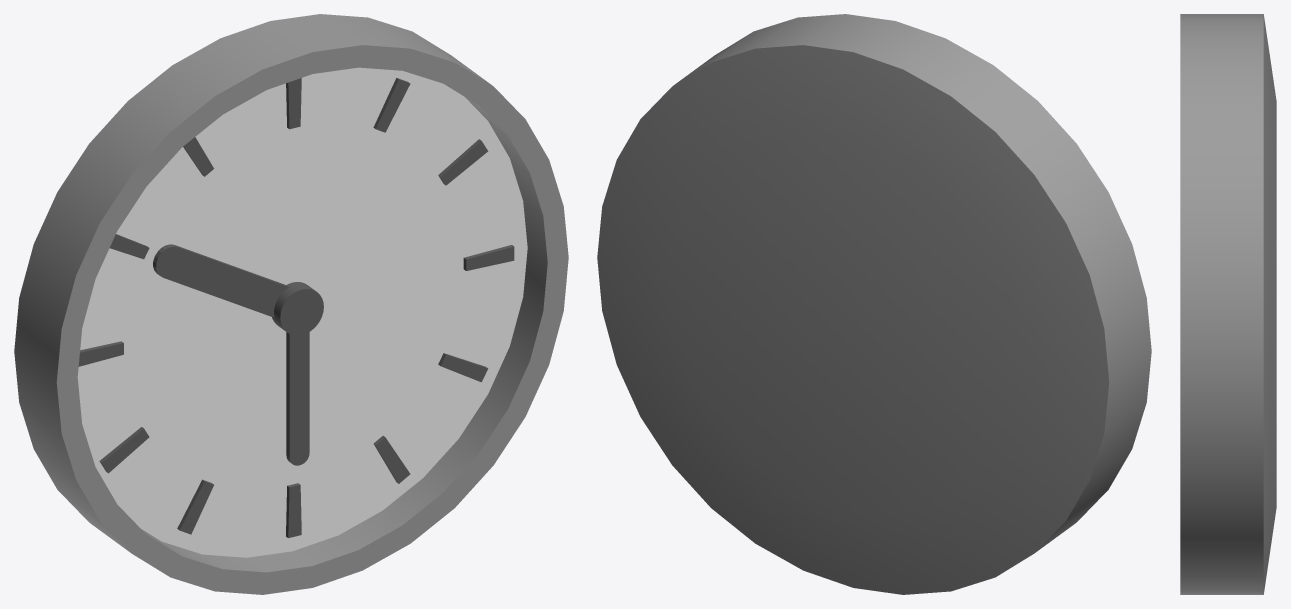
Rendered from ten_thirty.gltf.
The picture shows the model from 3 angles, left to right: view 1: azimuth 30°, elevation 25°; view 2: azimuth 150°, elevation 25°; view 3: azimuth 270°, elevation 25°; orthographic projection.
Parts seen in each view (by area): view 1: Circle.2492; view 2: Circle.2492; view 3: Circle.2492.
Boxes of the visible parts, x1,y1,x2,y2 form: Circle.2492: [14, 14, 568, 594]; Circle.2492: [597, 14, 1151, 594]; Circle.2492: [1180, 14, 1276, 594].
Size of the model in its own units: 2.33 by 2.33 by 0.387.
Materials: 1 (1 with a texture image).
